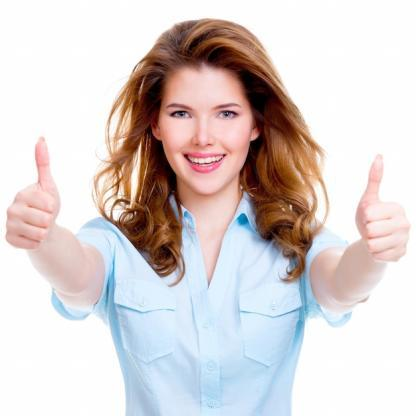thumb_up: (348, 150, 413, 264), (3, 131, 62, 252)
